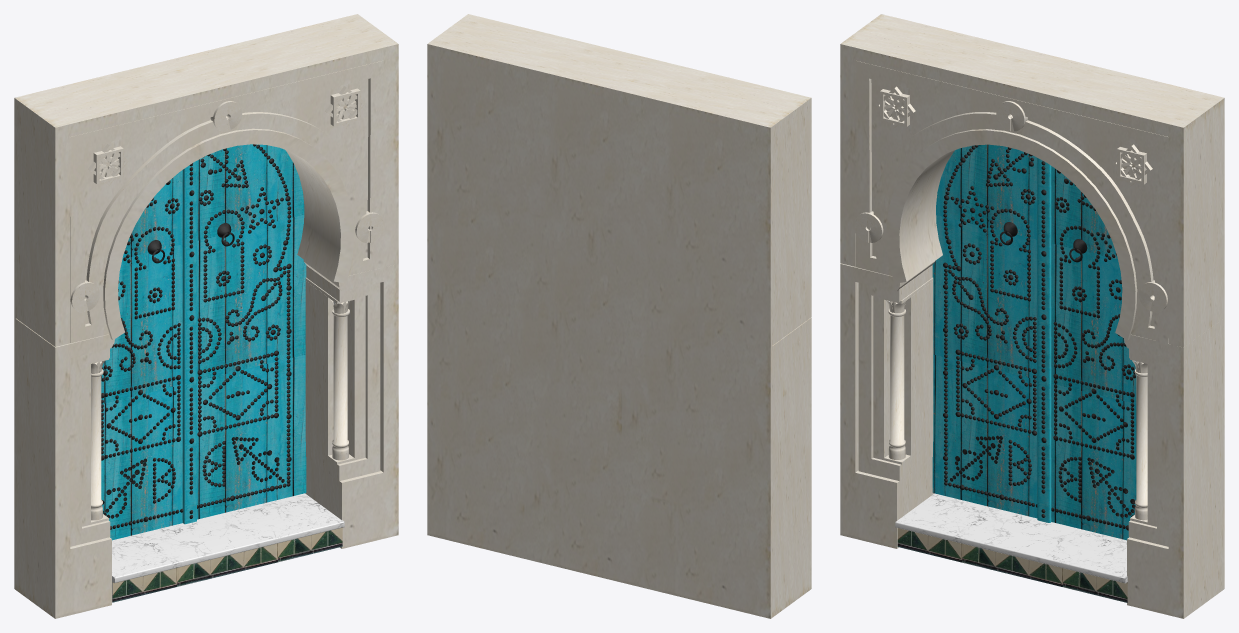
Rendered from rs_door.glb.
3 views of the same model, side by side, from view 1: azimuth 30°, elevation 25°; view 2: azimuth 150°, elevation 25°; view 3: azimuth 330°, elevation 25° (orthographic).
Visible parts, largest first — view 1: Plane008 (×2), Rectangle006, Box001, Box003, Box004, Box002, Cylinder001, Tube001, Tube003, Tube002, Rectangle002, Rectangle004; view 2: Plane008; view 3: Plane008 (×2), Rectangle006, Box001, Box003, Box004, Box002, Cylinder001, Tube003, Tube002, Tube001.
Boxes of the visible parts, x1,y1,x2,y2 form: Plane008 (×2): (14,14,398,618); Rectangle006: (101,144,306,540); Box001: (103,128,353,339); Box003: (112,493,344,583); Box004: (182,161,196,524); Box002: (112,527,342,602); Cylinder001: (332,301,348,460); Tube001: (355,211,384,242); Tube003: (210,101,242,131); Tube002: (70,280,99,312); Rectangle002: (93,146,123,183); Rectangle004: (330,88,360,126); Plane008: (427,14,811,618); Plane008 (×2): (840,14,1224,618); Rectangle006: (932,144,1136,540); Box001: (886,129,1137,340); Box003: (895,493,1127,583); Box004: (1037,158,1051,522); Box002: (897,528,1127,602); Cylinder001: (1135,361,1147,520); Tube003: (996,101,1027,131); Tube002: (854,211,883,242); Tube001: (1138,280,1167,312).
Bounding box in the file's own units: 1.86 × 2.55 × 0.4067.
Materials: 11 (5 with a texture image).
